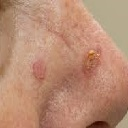Actinic: (80, 50, 102, 76), (31, 59, 48, 81)
